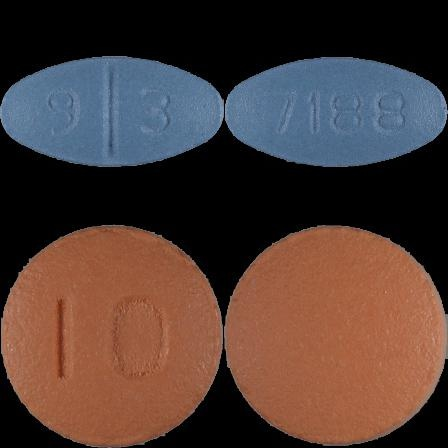63187-218: (0, 0, 224, 224)
